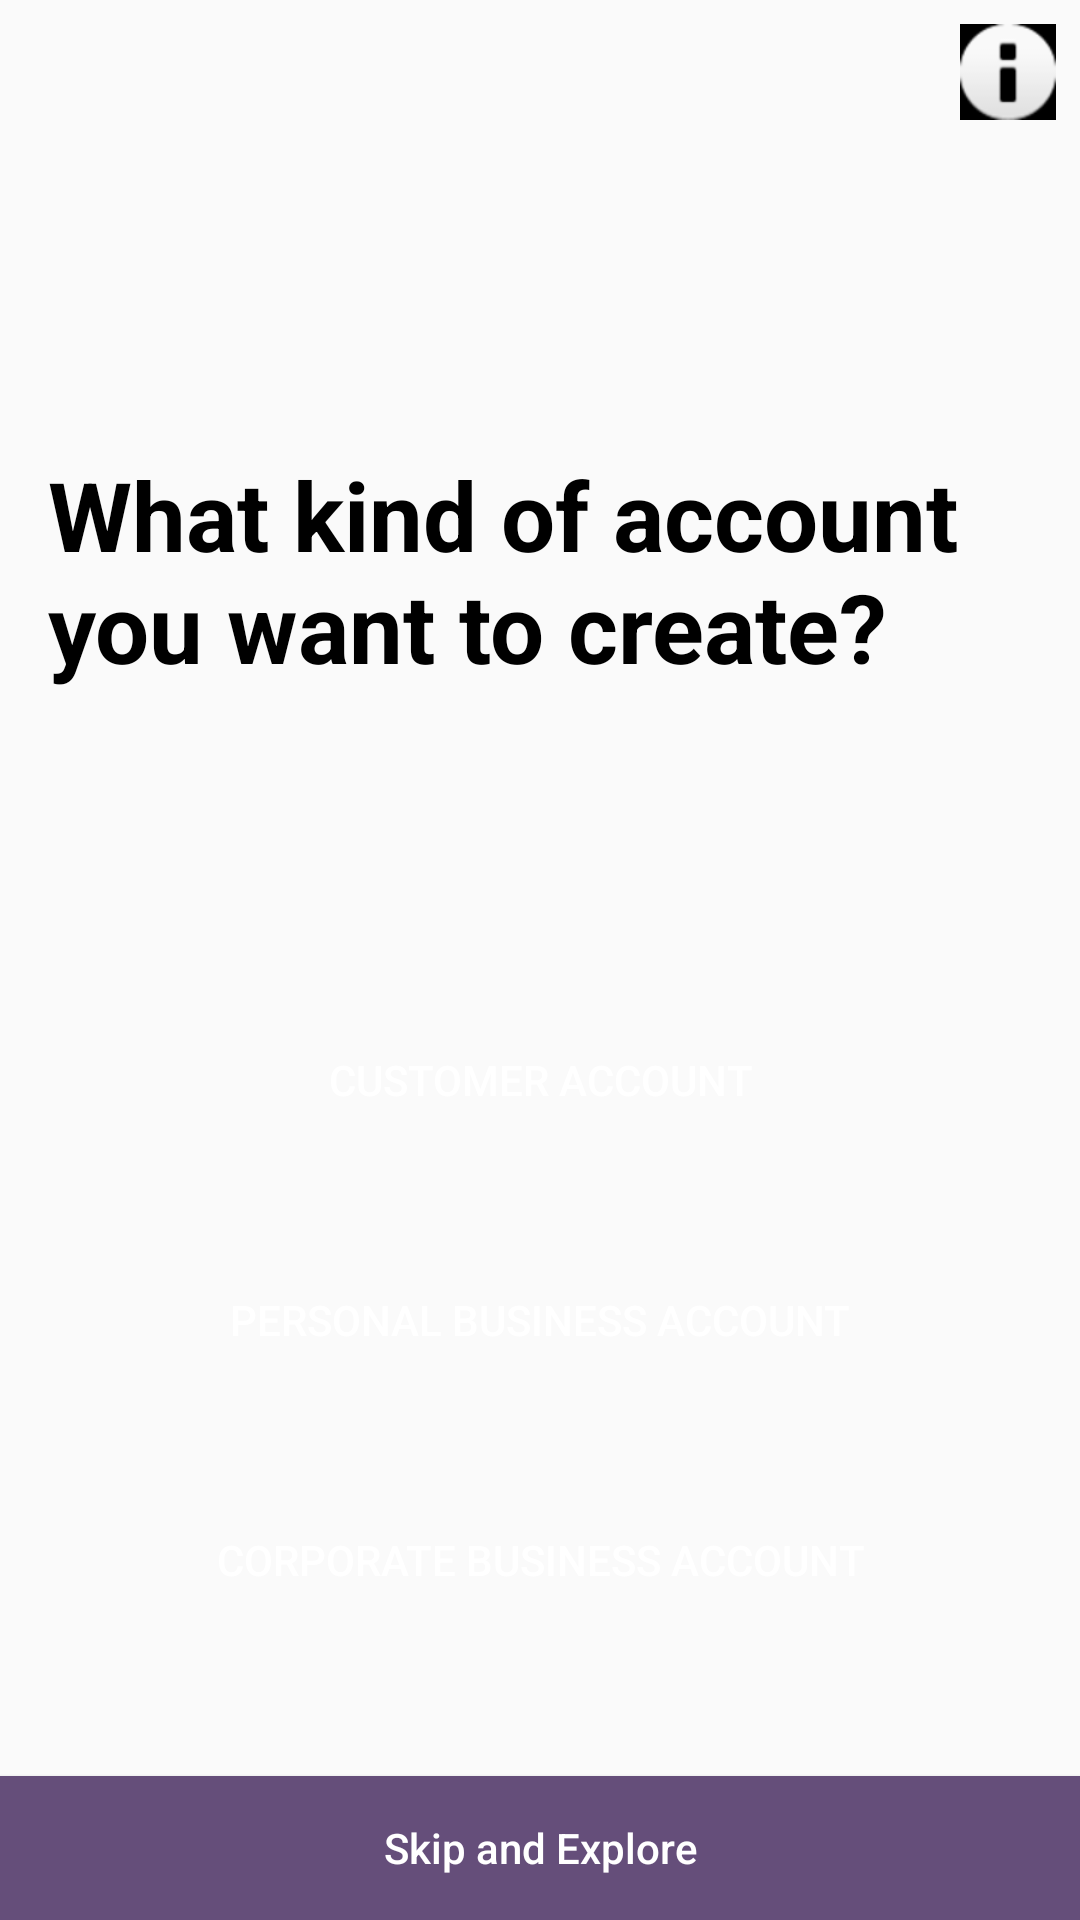

Where to tap for icons on this 1080x1920 app screen, as (x=x, y=y):
info: (x=1008, y=72)
